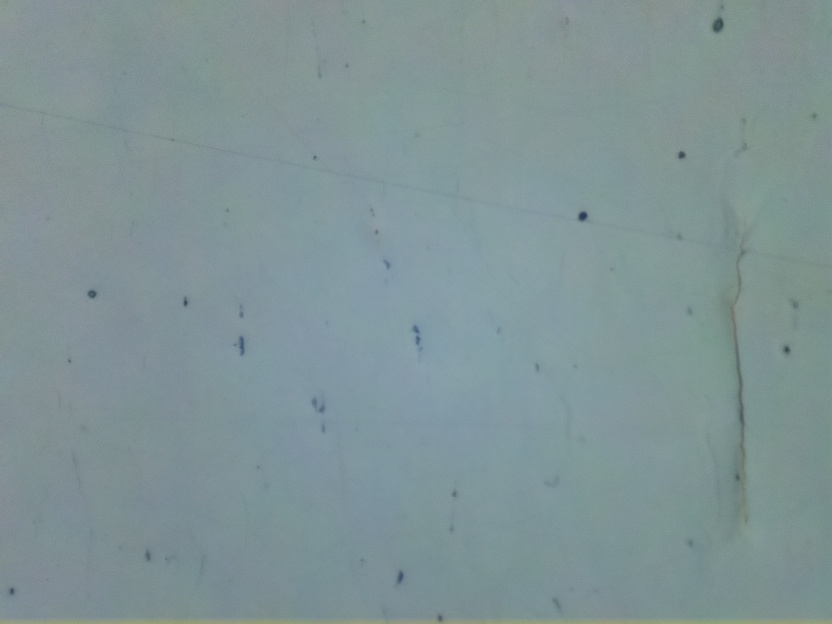crack: (712, 232, 765, 521)
